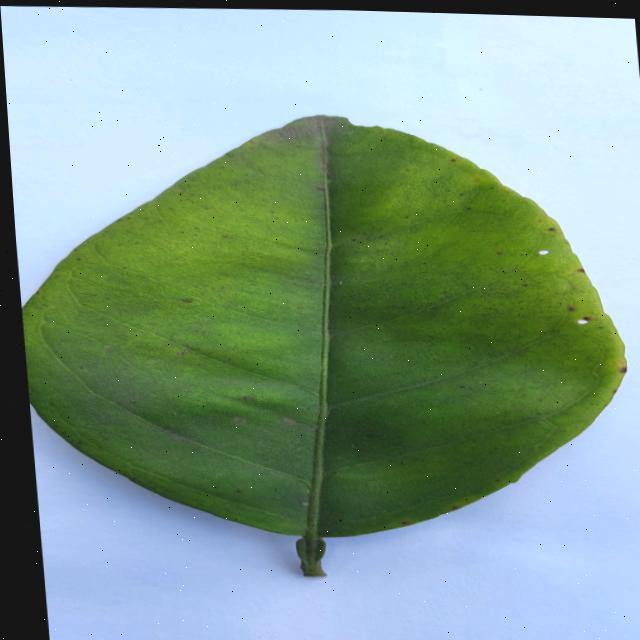greening: (21, 116, 625, 576)
